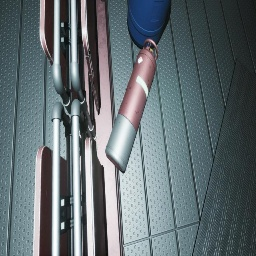NitrogenTank ,: (105, 39, 158, 171)
